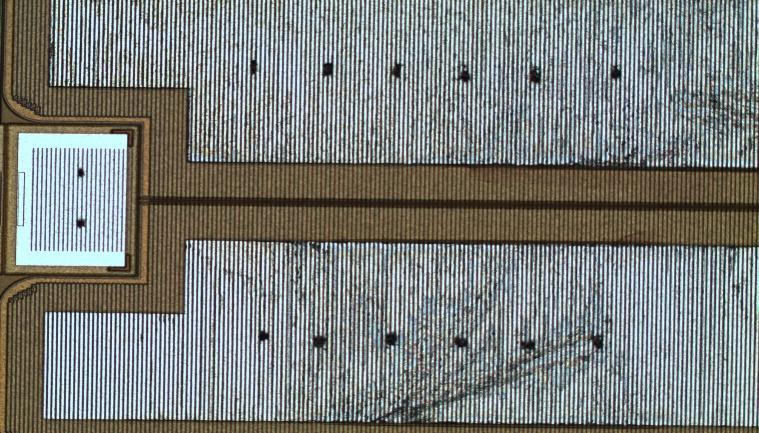SEZ BURNT: (49, 1, 759, 428)
